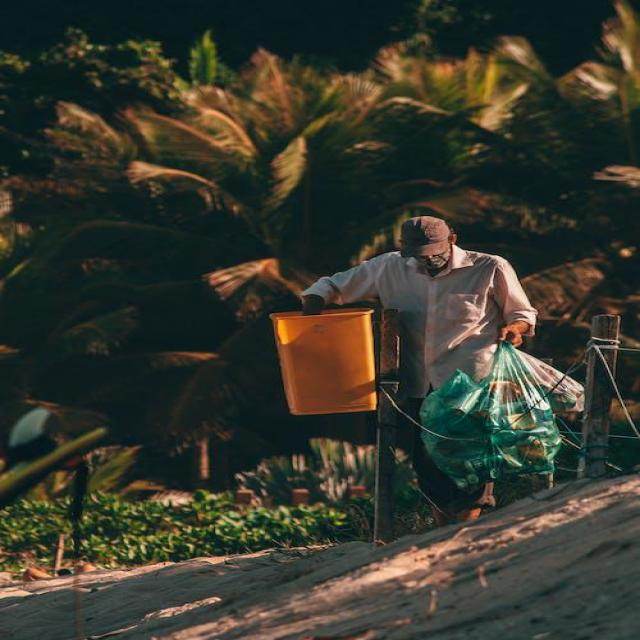plastic: (260, 307, 395, 426)
trash: (425, 363, 593, 482)
